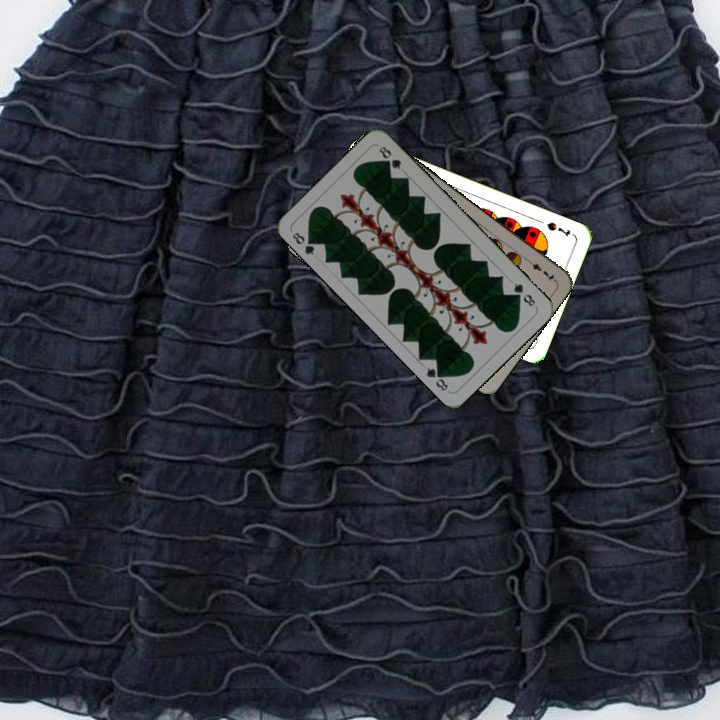E7: (522, 255, 558, 284)
G8: (509, 279, 539, 310), (288, 228, 319, 258)
S7: (543, 218, 573, 239)
